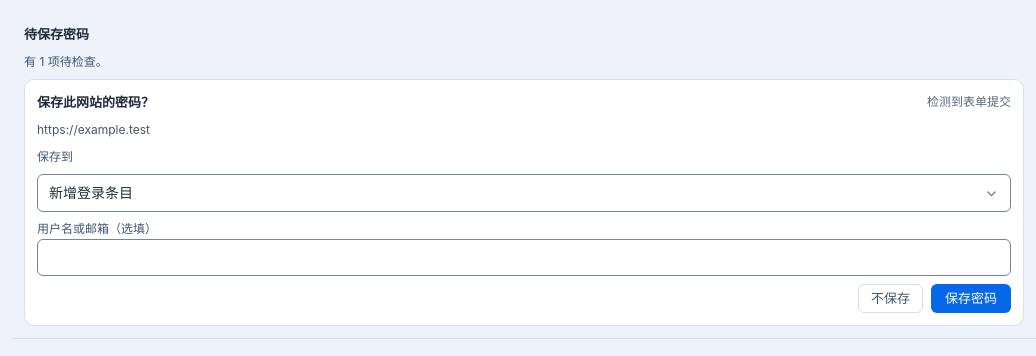
Test: ignores a pending save after the account-owned review unmounts without moving new-session focus
The image size is (1036, 356).
Click the button "保存密码": click(971, 299) x1=931 y1=284 x2=1011 y2=313
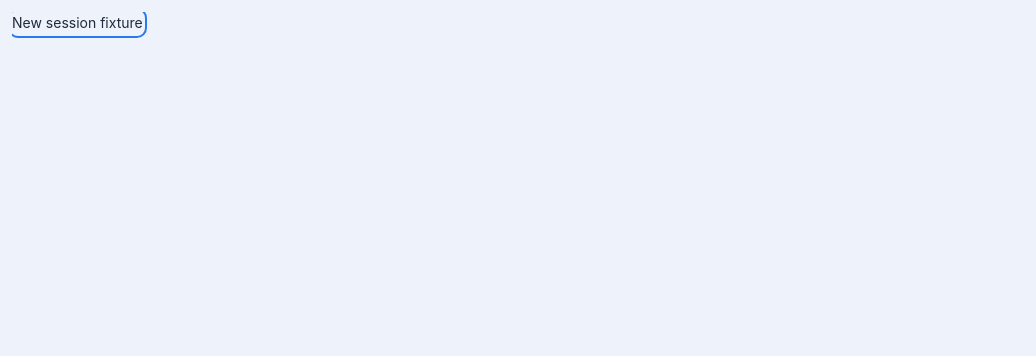
Now the message "有 1 项待检查。" is gone
